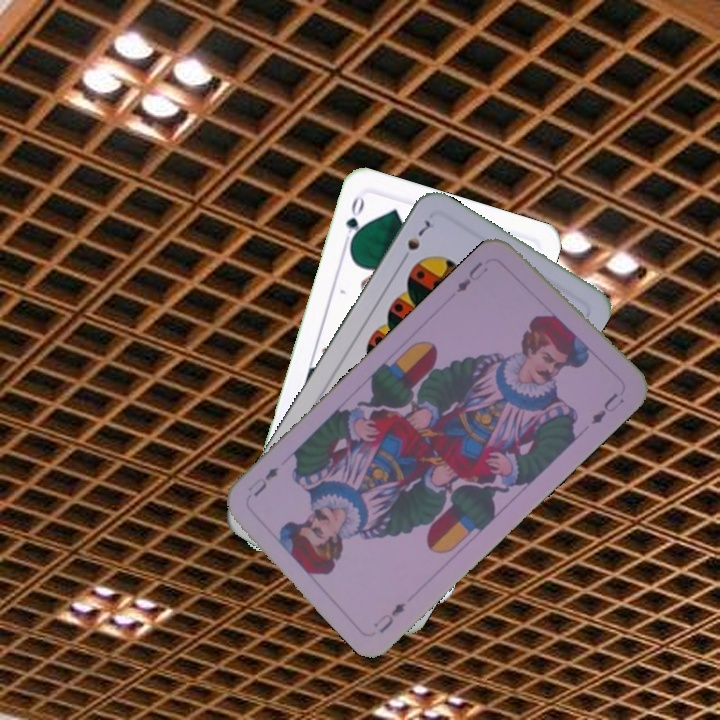EU: (370, 598, 408, 636), (452, 257, 488, 295)
GO: (339, 192, 368, 250)
S7: (396, 213, 436, 266)
